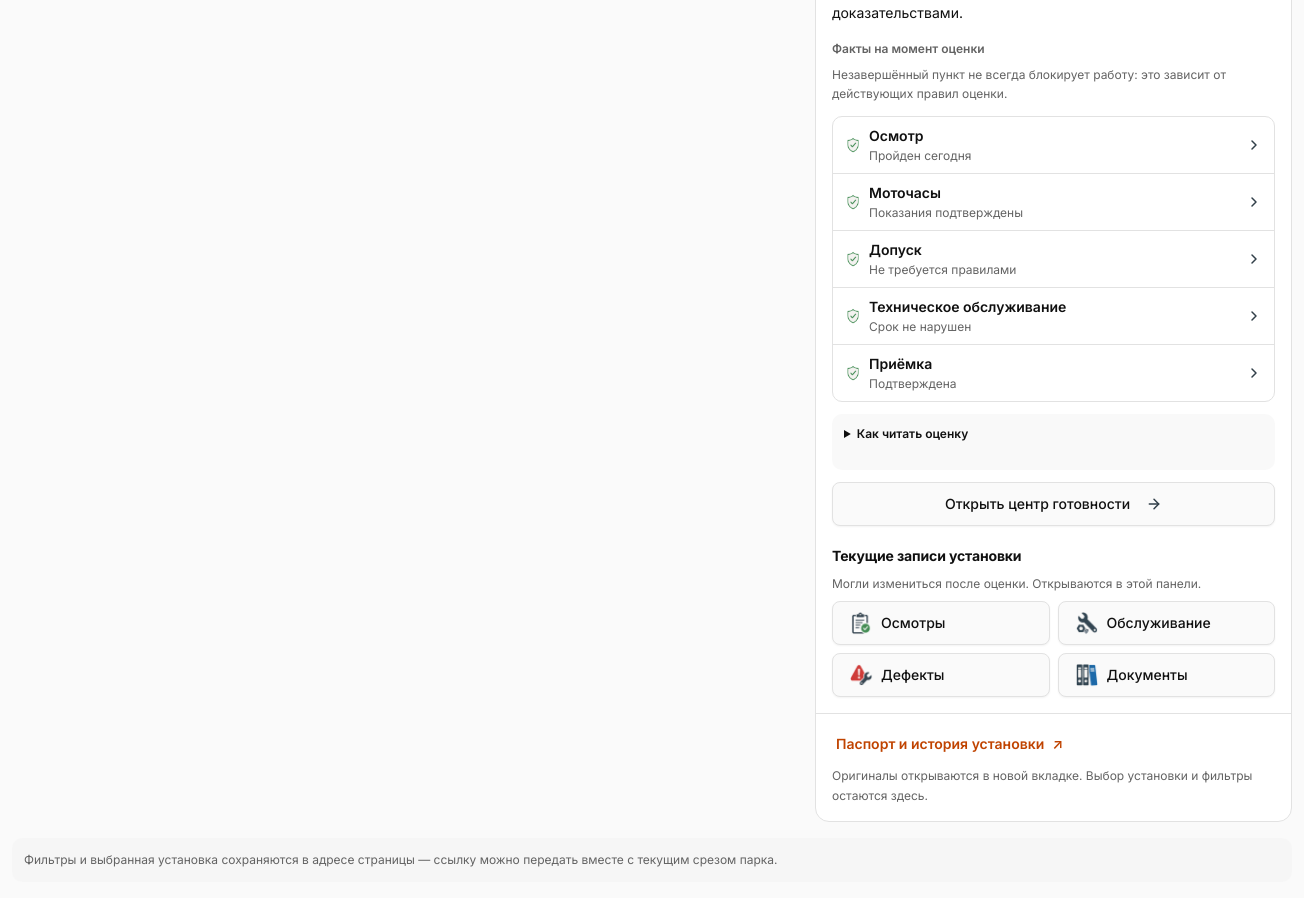
Scenario: Fleet evidence interactions › показывает осмотры машиниста рядом с журналом осмотров механика
(page scrolled)
Click the button "Осмотры": (941, 623) [832,601,1050,645]
(page scrolled)
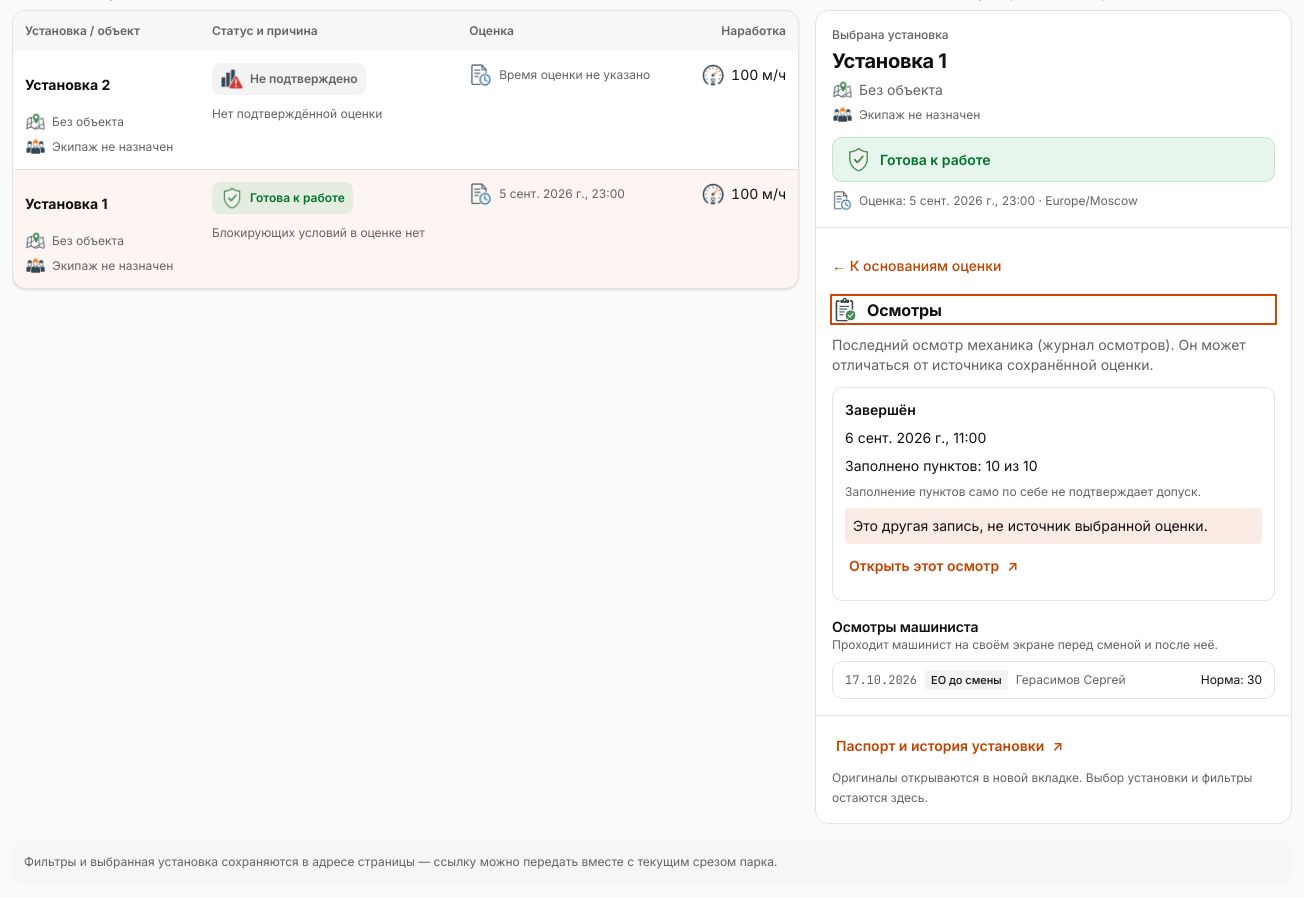
Now the text "ЕО до смены" is shown, box [925,670,1008,690]
Now the text "17.10.2026" is shown, box [845,672,917,688]
Now the text "Герасимов Сергей" is shown, box [1016,672,1126,688]
